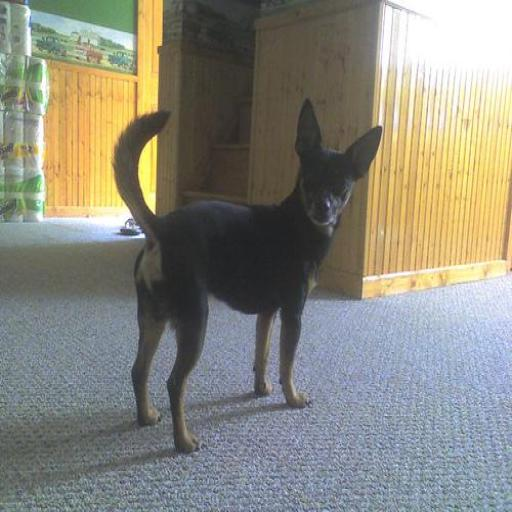dog_face: (295, 98, 390, 231)
